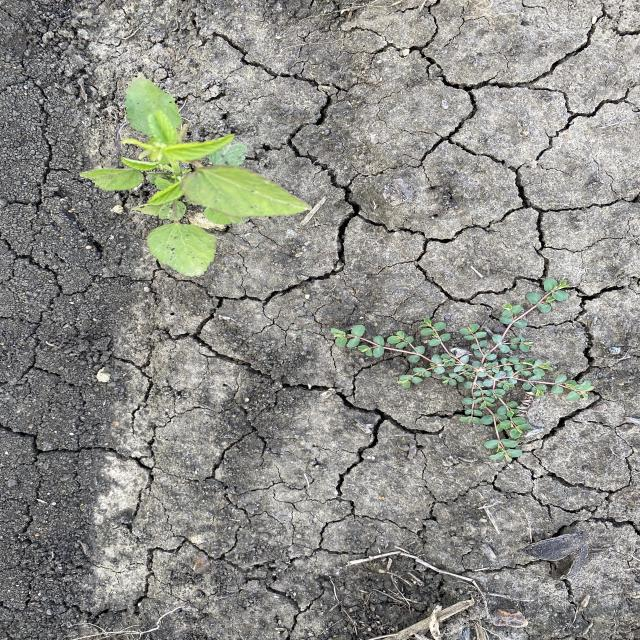PricklySida: (77, 73, 316, 283)
SpottedSpurge: (326, 275, 595, 465)
